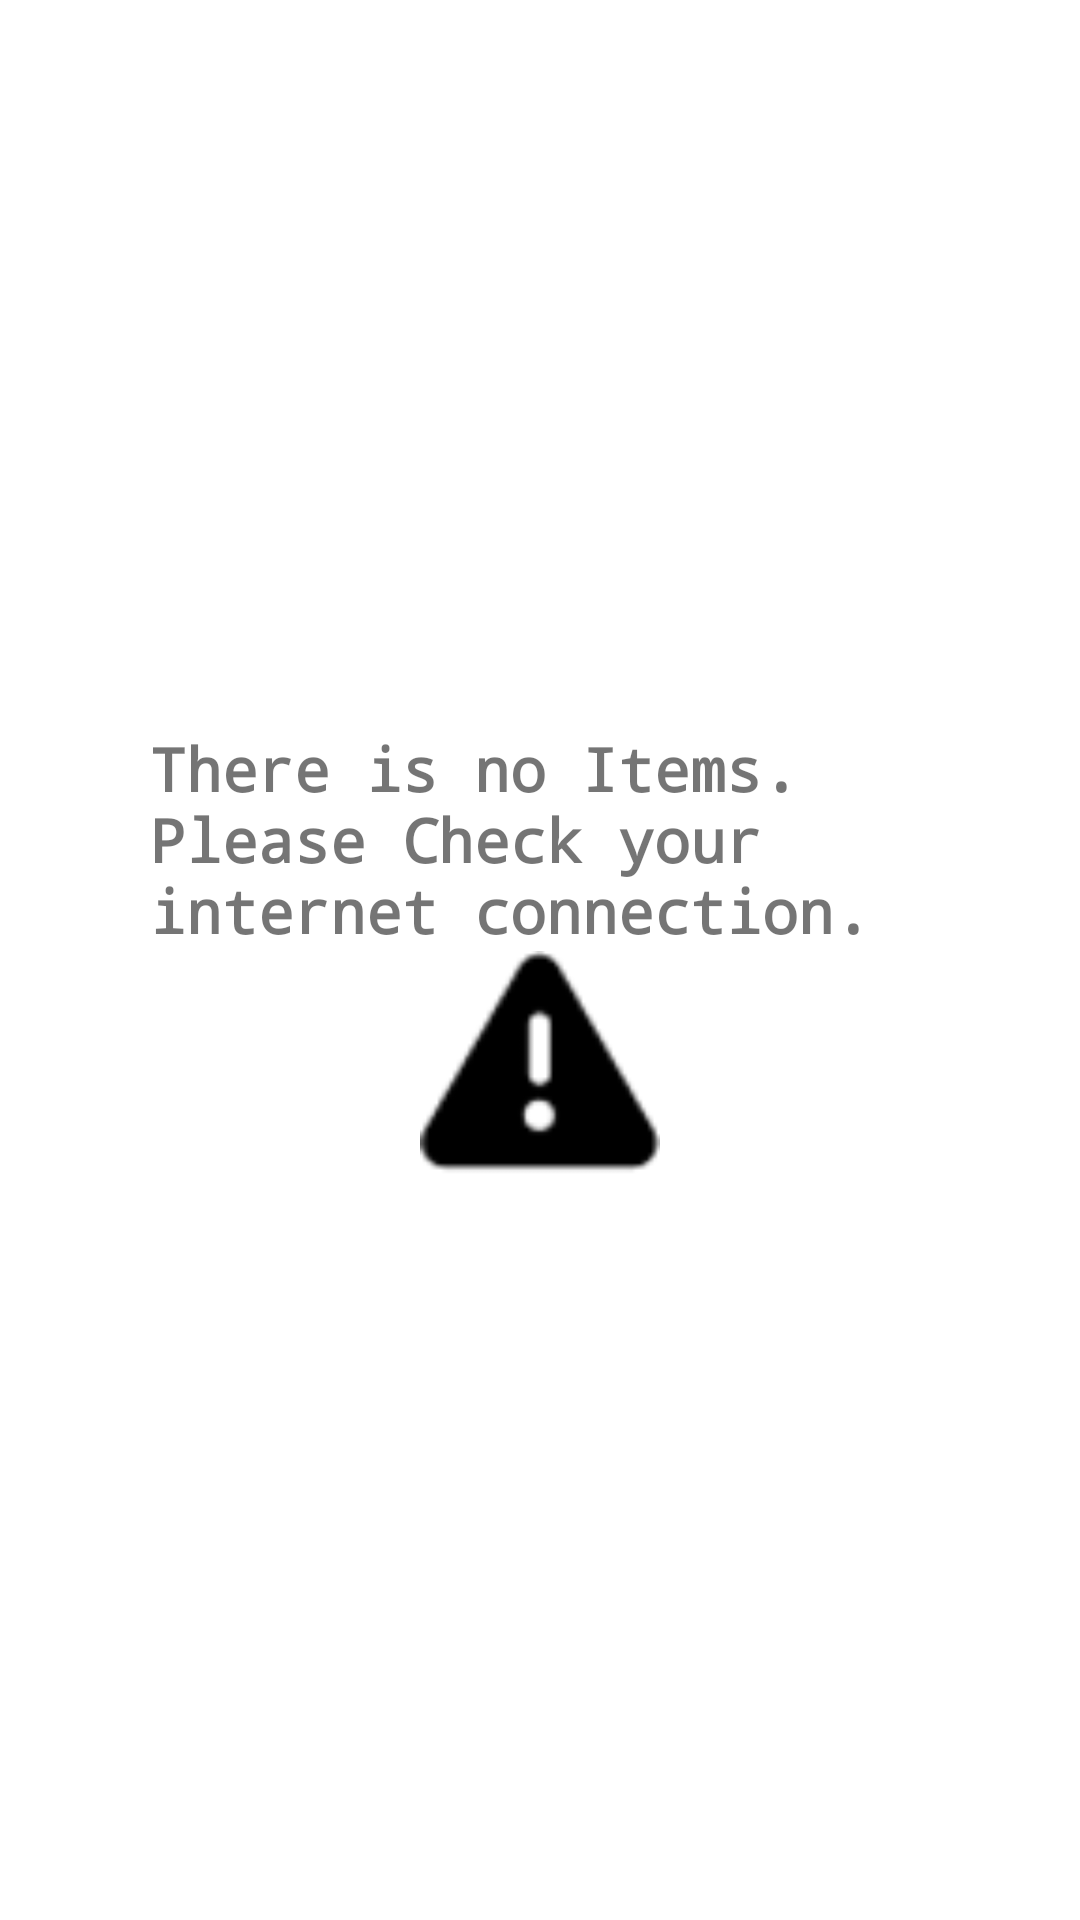

Locate icon controls on the screen. Image size 1080x1920, boxes as (x1, y1, x2, y2).
alert: (420, 951, 660, 1170)
